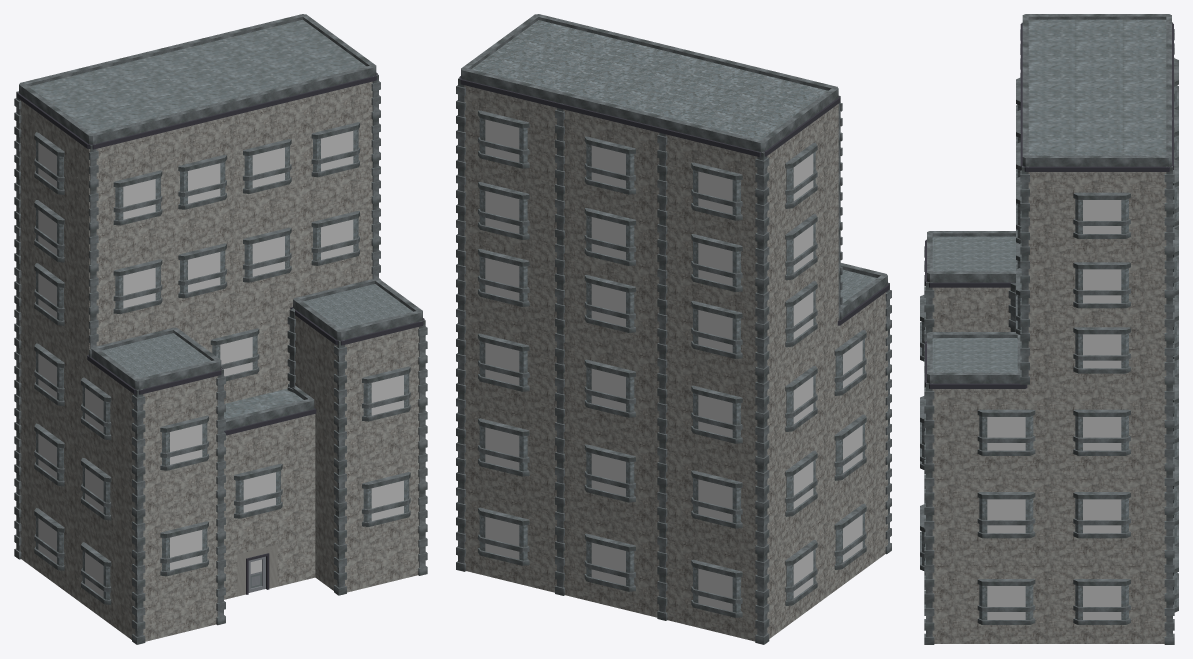
Rendered from City Building C.fbx.
3 views of the same model, side by side, from view 1: azimuth 30°, elevation 25°; view 2: azimuth 150°, elevation 25°; view 3: azimuth 270°, elevation 25° (orthographic). The views are drawn at different scales.
Visible parts, largest first — view 1: mergedBlocks; view 2: mergedBlocks; view 3: mergedBlocks.
Part boxes in pixels (bbox=[...]): mergedBlocks: bbox=[14, 14, 427, 644]; mergedBlocks: bbox=[456, 14, 891, 644]; mergedBlocks: bbox=[920, 14, 1178, 644].
Size of the model in its own units: 74.05 by 112 by 54.05.
Materials: 7 (5 with a texture image).
